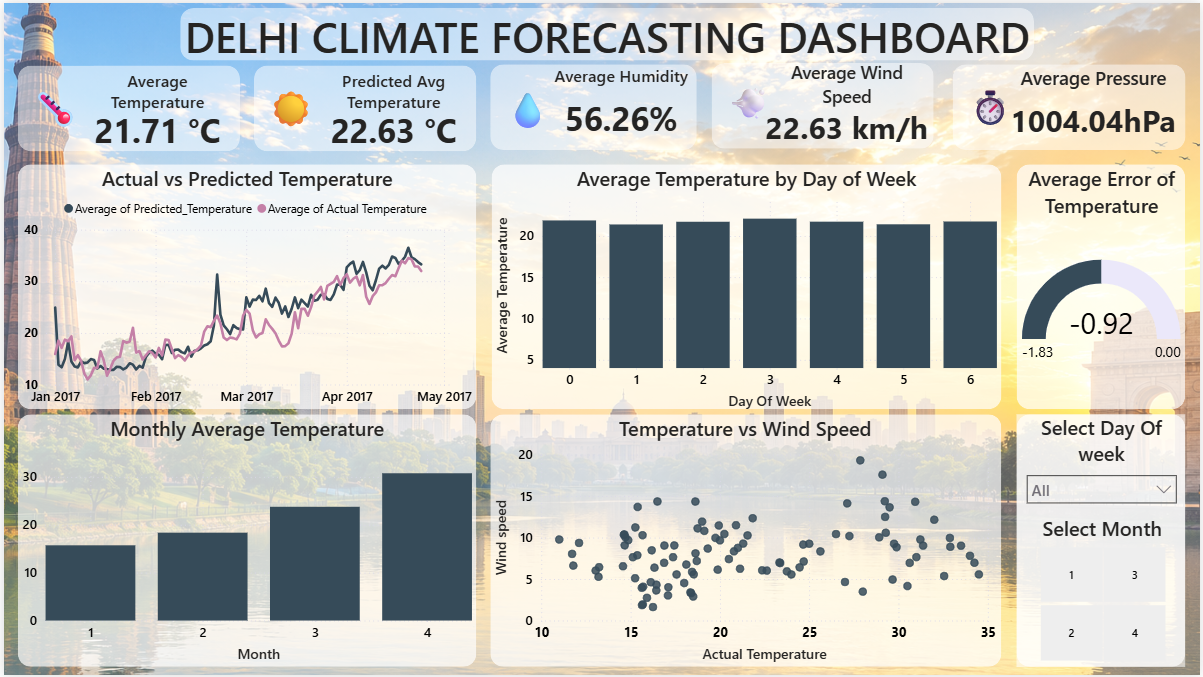

The dashboard page shown, as its layout file describes it:
{"tool":"powerbi","page":{"name":"Page 1","canvas":[1366,768],"ordinal":0},"visuals":[{"type":"shape","box":[16,72,254,98],"z":1000},{"type":"shape","box":[286,72,254,98],"z":2000},{"type":"shape","box":[556,70,236,98],"z":3000},{"type":"shape","box":[808,68,254,98],"z":4000},{"type":"shape","box":[1084,70,266,98],"z":5000},{"type":"card","title":"Average Temperature","fields":{"Values":["Avg(Delhi_Climate_Final_Result.meantemp)"]},"box":[82,76,188,90],"z":6000},{"type":"shape","box":[16,72,86,94],"z":7000},{"type":"shape","box":[286,72,86,94],"z":8000},{"type":"card","title":"Predicted Avg Temperature","fields":{"Values":["Avg(Delhi_Climate_Final_Result.Predicted_Temperature)"]},"box":[352,76,188,90],"z":9000},{"type":"card","title":"Average Humidity ","fields":{"Values":["Avg(Delhi_Climate_Final_Result.humidity)"]},"box":[618,70,174,98],"z":10000},{"type":"shape","box":[556,74,86,94],"z":11000},{"type":"shape","box":[808,66,86,94],"z":12000},{"type":"card","title":"Average Wind Speed","fields":{"Values":["Avg(Delhi_Climate_Final_Result.Predicted_Temperature)"]},"box":[864,66,198,100],"z":13000},{"type":"card","title":"Average Pressure","fields":{"Values":["Avg(Delhi_Climate_Final_Result.meanpressure)"]},"box":[1140,70,210,100],"z":14000},{"type":"shape","box":[1084,70,86,94],"z":15000},{"type":"shape","box":[15.7,184.3,524.3,280],"z":16000},{"type":"lineChart","title":"Actual vs Predicted Temperature","fields":{"Y":["Avg(Delhi_Climate_Final_Result.Predicted_Temperature)","Avg(Delhi_Climate_Final_Result.meantemp)"],"Category":["Delhi_Climate_Final_Result.date.Variation.Date Hierarchy.Year","Delhi_Climate_Final_Result.date.Variation.Date Hierarchy.Quarter","Delhi_Climate_Final_Result.date.Variation.Date Hierarchy.Month","Delhi_Climate_Final_Result.date.Variation.Date Hierarchy.Day"]},"box":[15.7,184.3,524.3,285.7],"z":17000},{"type":"shape","box":[557.1,184.3,582.9,280],"z":18000},{"type":"shape","box":[15.7,470,524.3,288.6],"z":20000},{"type":"shape","box":[1157.1,184.3,192.9,280],"z":21000},{"type":"gauge","title":"Average Error of Temperature","fields":{"Y":["Avg(Delhi_Climate_Final_Result.Error)"]},"box":[1158.6,184.3,191.4,280],"z":22000},{"type":"clusteredColumnChart","title":"Monthly Average Temperature","fields":{"Category":["Delhi_Climate_Final_Result.month"],"Y":["Avg(Delhi_Climate_Final_Result.Actual Temperature)"]},"box":[15.7,470,524.3,288.6],"z":23000},{"type":"shape","box":[555.7,470,584.3,288.6],"z":24000},{"type":"shape","box":[1157.1,470,192.9,288.6],"z":25000},{"type":"clusteredColumnChart","title":"Average Temperature by Day of Week","fields":{"Y":["Avg(Delhi_Climate_Final_Result.Actual Temperature)"],"Category":["Delhi_Climate_Final_Result.day_of_week"]},"box":[557.1,184.3,582.9,285.7],"z":26000},{"type":"scatterChart","title":"Temperature vs Wind Speed","fields":{"X":["Delhi_Climate_Final_Result.Actual Temperature"],"Y":["Avg(Delhi_Climate_Final_Result.wind_speed)"]},"box":[555.7,470,582.9,288.6],"z":26001},{"type":"slicer","title":"Select Day Of week","fields":{"Values":["Delhi_Climate_Final_Result.day_of_week"]},"box":[1158.6,468.6,191.4,115.7],"z":26002},{"type":"slicer","title":"Select Month","fields":{"Values":["Delhi_Climate_Final_Result.month"]},"box":[1158.6,584.3,192.9,174.3],"z":26003},{"type":"shape","box":[201.4,5.7,975.7,60],"z":26004},{"type":"textbox","box":[201.4,0,1007.1,75.7],"z":26005}]}

Visuals, with their boxes in screenshot pixels (x1, y1, x2, y2), scaled from the page's 1366x768 canvas onto the 1203x677 screenshot:
shape: detection(14, 63, 238, 150)
shape: detection(252, 63, 476, 150)
shape: detection(490, 62, 697, 148)
shape: detection(712, 60, 935, 146)
shape: detection(955, 62, 1189, 148)
"Average Temperature" card: detection(72, 67, 238, 146)
shape: detection(14, 63, 90, 146)
shape: detection(252, 63, 328, 146)
"Predicted Avg Temperature" card: detection(310, 67, 476, 146)
"Average Humidity " card: detection(544, 62, 697, 148)
shape: detection(490, 65, 565, 148)
shape: detection(712, 58, 787, 141)
"Average Wind Speed" card: detection(761, 58, 935, 146)
"Average Pressure" card: detection(1004, 62, 1189, 150)
shape: detection(955, 62, 1030, 145)
shape: detection(14, 162, 476, 409)
"Actual vs Predicted Temperature" lineChart: detection(14, 162, 476, 414)
shape: detection(491, 162, 1004, 409)
shape: detection(14, 414, 476, 669)
shape: detection(1019, 162, 1189, 409)
"Average Error of Temperature" gauge: detection(1020, 162, 1189, 409)
"Monthly Average Temperature" clusteredColumnChart: detection(14, 414, 476, 669)
shape: detection(489, 414, 1004, 669)
shape: detection(1019, 414, 1189, 669)
"Average Temperature by Day of Week" clusteredColumnChart: detection(491, 162, 1004, 414)
"Temperature vs Wind Speed" scatterChart: detection(489, 414, 1003, 669)
"Select Day Of week" slicer: detection(1020, 413, 1189, 515)
"Select Month" slicer: detection(1020, 515, 1190, 669)
shape: detection(177, 5, 1037, 58)
textbox: detection(177, 0, 1064, 67)
